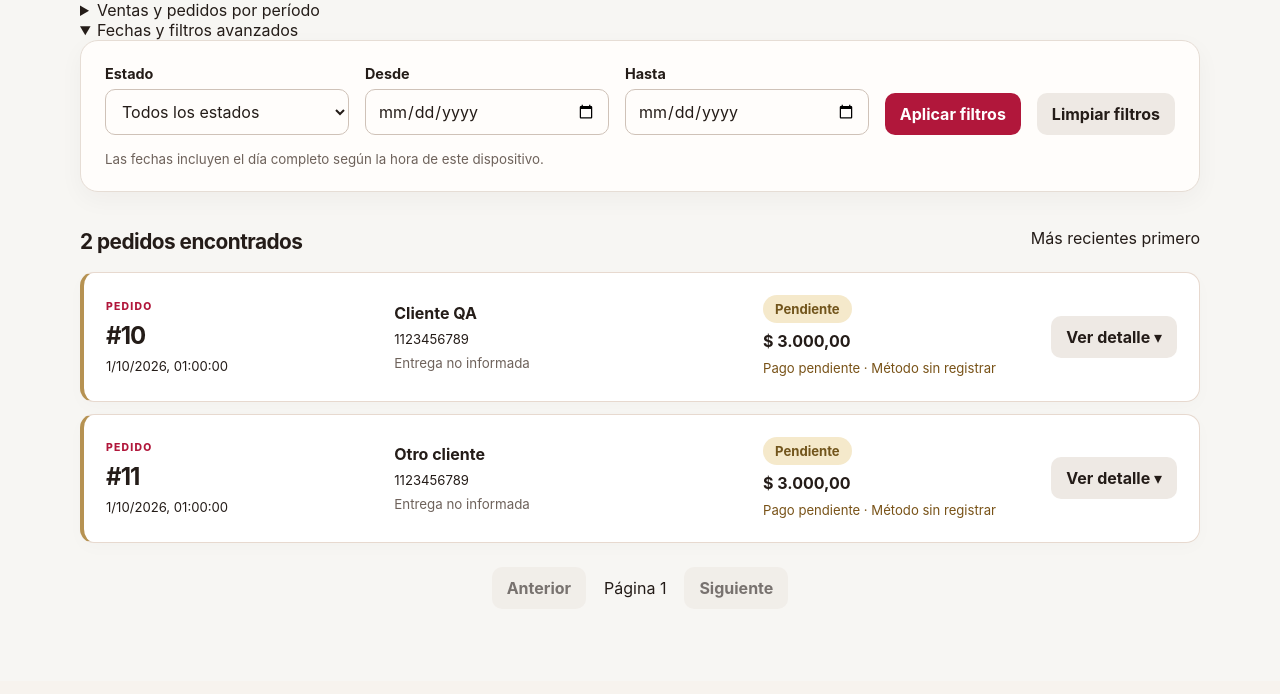
Test case: despliega en la misma lista, conserva la ruta y abre un solo pedido por vez
(page scrolled)
Click the button with aria-label "Ver pedido #10" at (1114, 337), box [1051,316,1177,358]
(page scrolled)
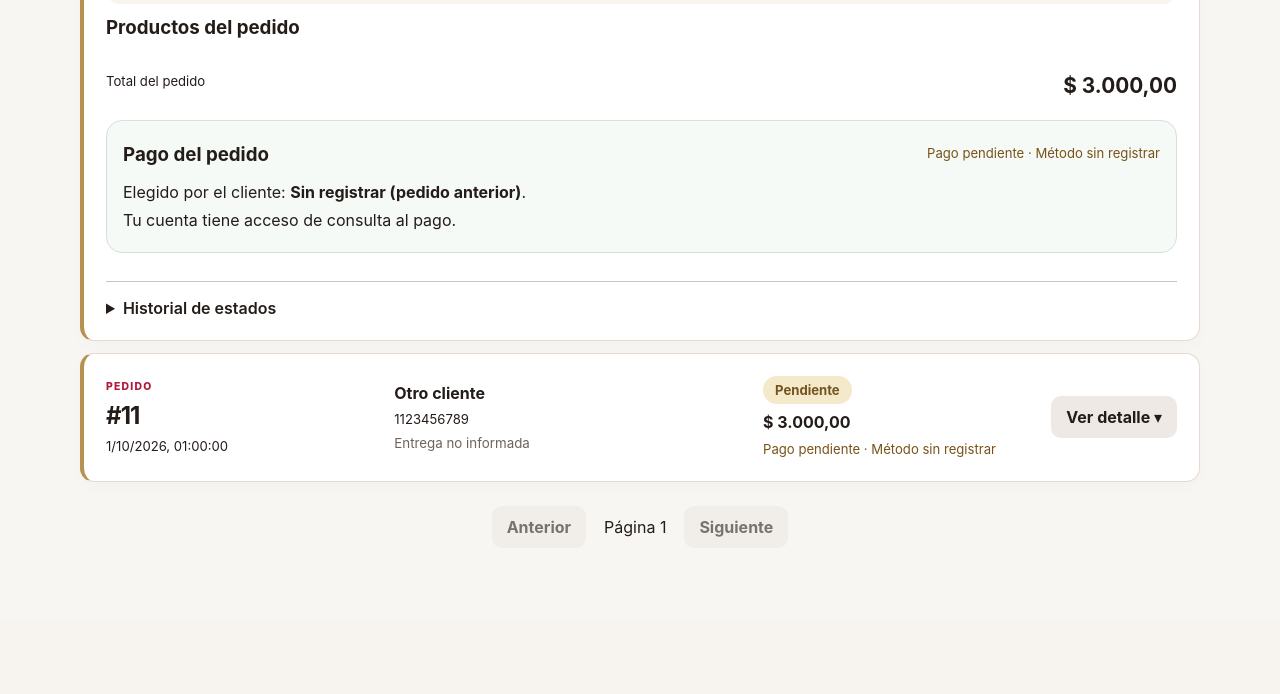
Click the button with aria-label "Ver pedido #11" at (1114, 417), box [1051,396,1177,438]
(page scrolled)
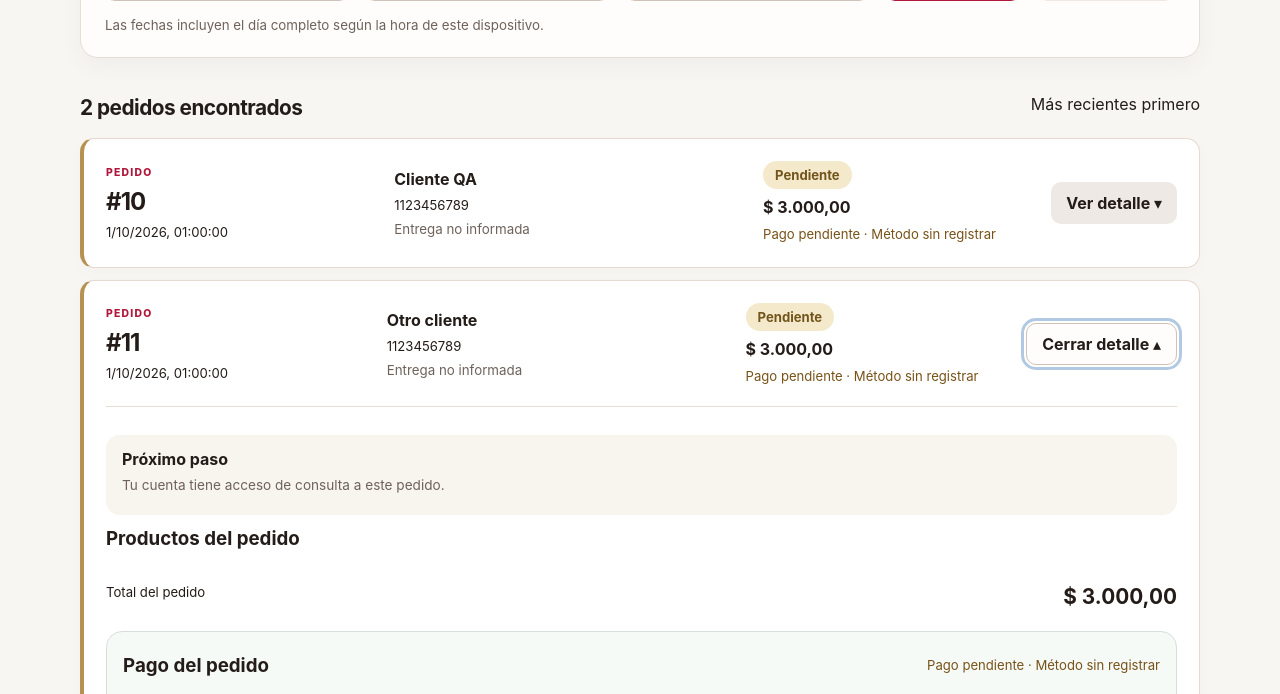
Click the button with aria-label "Cerrar pedido #11" at (1102, 344), box [1026,323,1177,365]
(page scrolled)
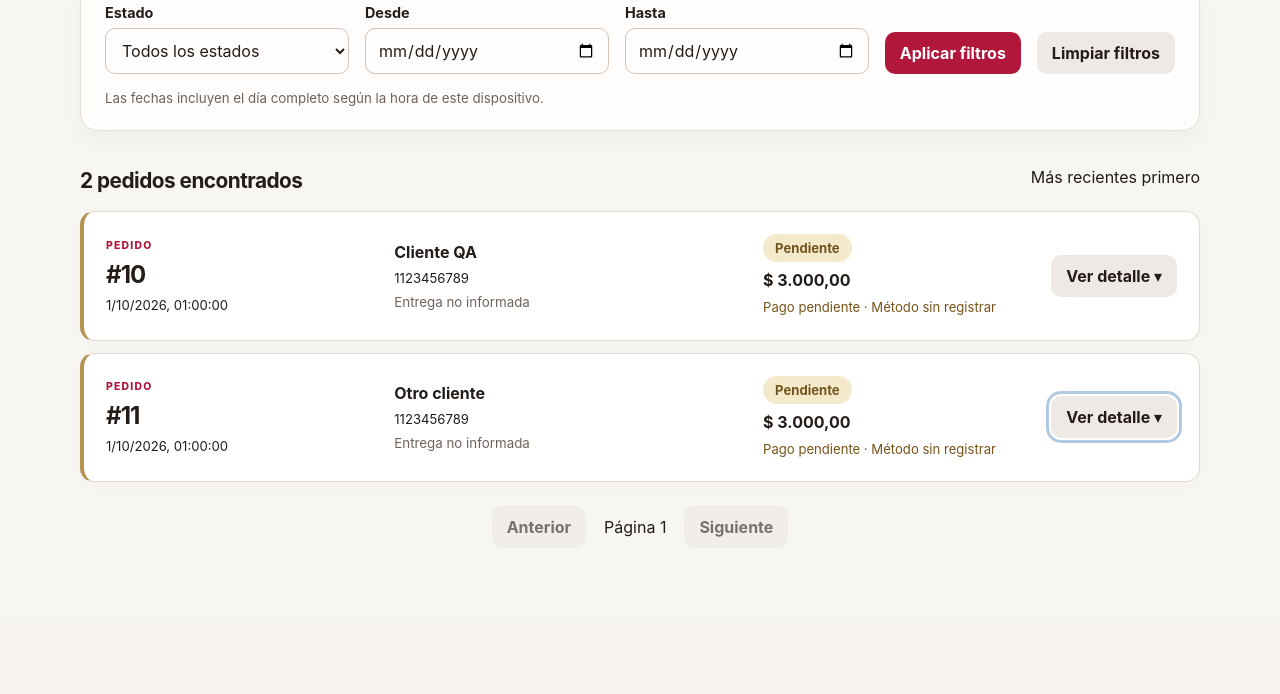
Now the button with aria-label "Ver pedido #11" is collapsed, box [1051,396,1177,438]
